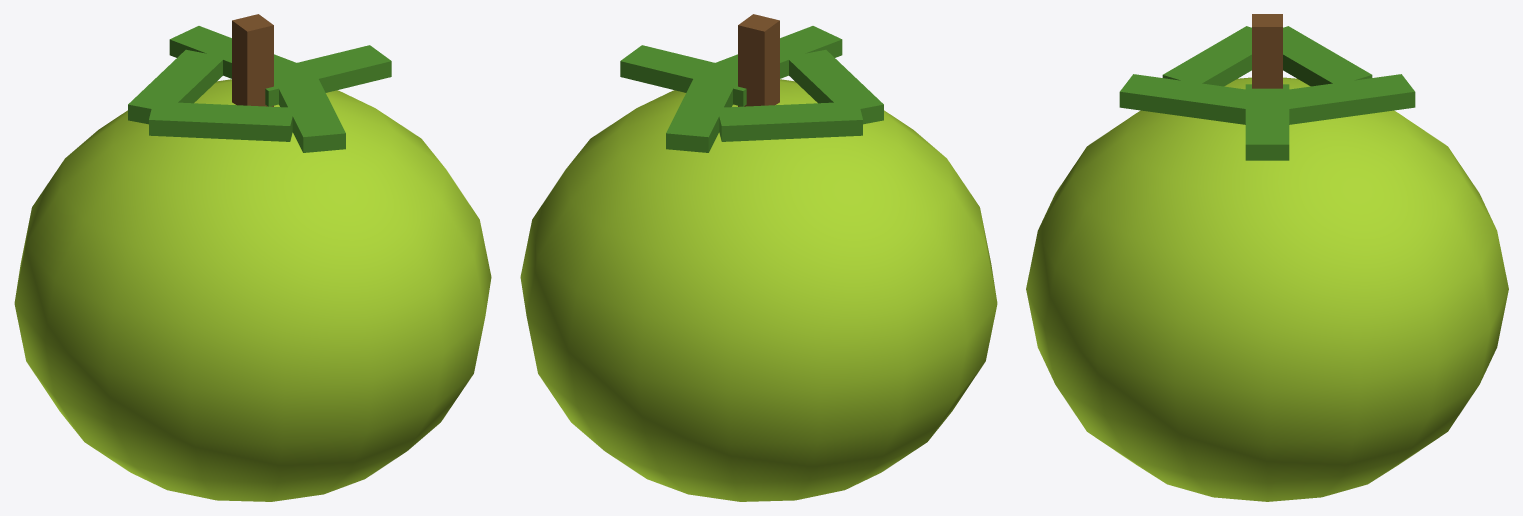
Rendered from apple.glb.
3 views of the same model, side by side, from view 1: azimuth 30°, elevation 25°; view 2: azimuth 150°, elevation 25°; view 3: azimuth 270°, elevation 25° (orthographic).
Parts seen in each view (by area): view 1: Apple, Apple leaf.002, Apple leaf, Apple leaf.003, Apple stem, Apple leaf.001, Apple leaf.004; view 2: Apple, Apple leaf.003, Apple leaf, Apple leaf.002, Apple leaf.004, Apple stem, Apple leaf.001; view 3: Apple, Apple leaf.001, Apple leaf.004, Apple leaf, Apple leaf.002, Apple leaf.003, Apple stem.
Part boxes in pixels (x1=…): Apple: x1=14, y1=79, x2=491, y2=501; Apple leaf.002: x1=149, y1=101, x2=294, y2=141; Apple leaf: x1=265, y1=45, x2=391, y2=106; Apple leaf.003: x1=128, y1=49, x2=224, y2=124; Apple stem: x1=232, y1=14, x2=273, y2=106; Apple leaf.001: x1=278, y1=75, x2=345, y2=152; Apple leaf.004: x1=169, y1=26, x2=303, y2=78; Apple: x1=520, y1=79, x2=997, y2=501; Apple leaf.003: x1=718, y1=102, x2=862, y2=141; Apple leaf: x1=620, y1=45, x2=746, y2=106; Apple leaf.002: x1=787, y1=49, x2=883, y2=124; Apple leaf.004: x1=666, y1=74, x2=737, y2=152; Apple stem: x1=738, y1=14, x2=779, y2=106; Apple leaf.001: x1=715, y1=26, x2=842, y2=78; Apple: x1=1026, y1=77, x2=1508, y2=501; Apple leaf.001: x1=1119, y1=74, x2=1266, y2=124; Apple leaf.004: x1=1268, y1=74, x2=1415, y2=124; Apple leaf: x1=1245, y1=84, x2=1289, y2=160; Apple leaf.002: x1=1162, y1=26, x2=1251, y2=86; Apple leaf.003: x1=1283, y1=26, x2=1372, y2=86; Apple stem: x1=1252, y1=14, x2=1282, y2=88.
Size of the model in its own units: 0.22 by 0.23 by 0.22.
